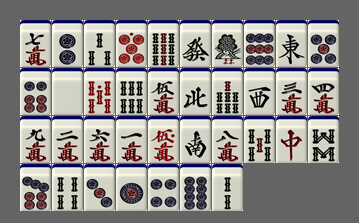0m: (148, 116, 179, 163)
0p: (116, 20, 147, 67)
0s: (84, 68, 115, 115)
1m: (116, 116, 147, 163)
1p: (116, 164, 147, 211)
1s: (212, 20, 243, 67)
1z: (276, 20, 307, 67)
2m: (52, 116, 83, 163)
2p: (52, 20, 83, 67)
2s: (212, 164, 243, 211)
2z: (180, 116, 211, 163)
3m: (276, 68, 307, 115)
3p: (84, 164, 115, 211)
3s: (84, 20, 115, 67)
3z: (244, 68, 275, 115)
4m: (308, 68, 339, 115)
4p: (148, 164, 179, 211)
4s: (52, 164, 83, 211)
4z: (180, 68, 211, 115)
5m: (148, 68, 179, 115)
5p: (308, 20, 339, 67)
5s: (244, 116, 275, 163)
5z: (52, 68, 83, 115)
6m: (84, 116, 115, 163)
6p: (20, 68, 51, 115)
6s: (116, 68, 147, 115)
6z: (180, 20, 211, 67)
7m: (20, 20, 51, 67)
7p: (20, 164, 51, 211)
7s: (212, 68, 243, 115)
7z: (276, 116, 307, 163)
8m: (212, 116, 243, 163)
8p: (180, 164, 211, 211)
8s: (308, 116, 339, 163)
9m: (20, 116, 51, 163)
9p: (244, 20, 275, 67)
9s: (148, 20, 179, 67)
